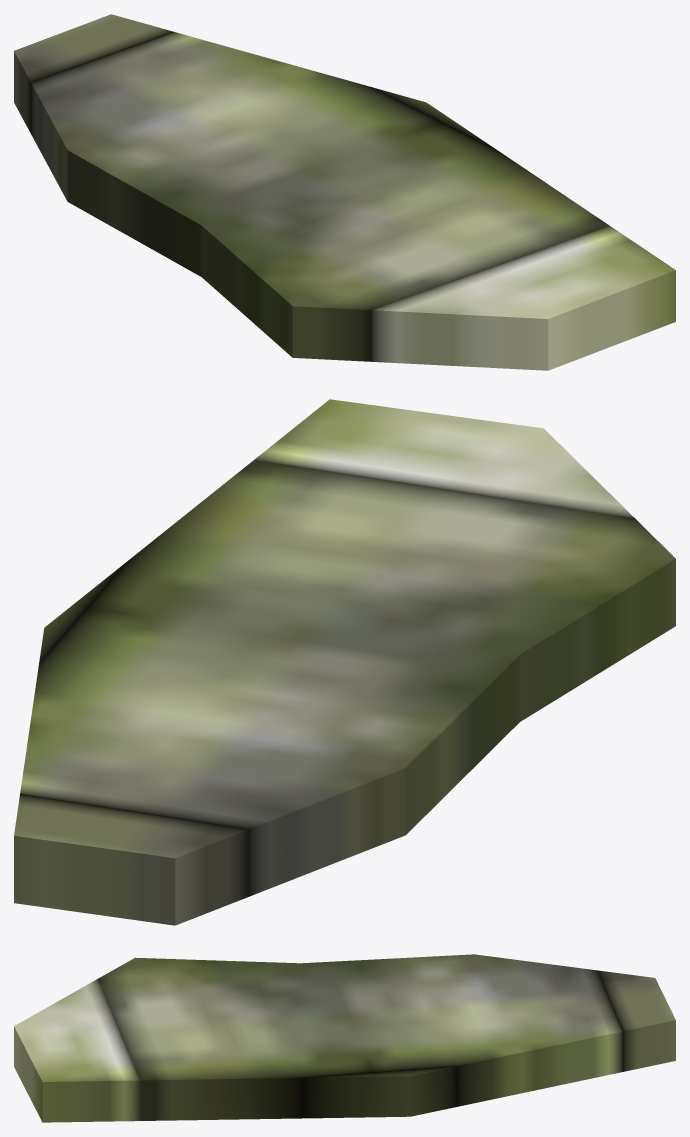
Rendered from China - Aviation - Cargo Plane - Damage State 3 - NVCargoPln_d3.glb.
3 views of the same model, one above another, from view 1: azimuth 30°, elevation 25°; view 2: azimuth 150°, elevation 25°; view 3: azimuth 270°, elevation 25° (orthographic). The views are drawn at different scales.
Visible parts, largest first — view 1: NVCARGOPLN_D3; view 2: NVCARGOPLN_D3; view 3: NVCARGOPLN_D3.
Boxes of the visible parts, x1,y1,x2,y2 form: NVCARGOPLN_D3: [14, 14, 675, 370]; NVCARGOPLN_D3: [14, 399, 675, 925]; NVCARGOPLN_D3: [14, 954, 675, 1122].
Size of the model in its own units: 5.06 by 0.75 by 11.09.
Materials: 1 (1 with a texture image).
